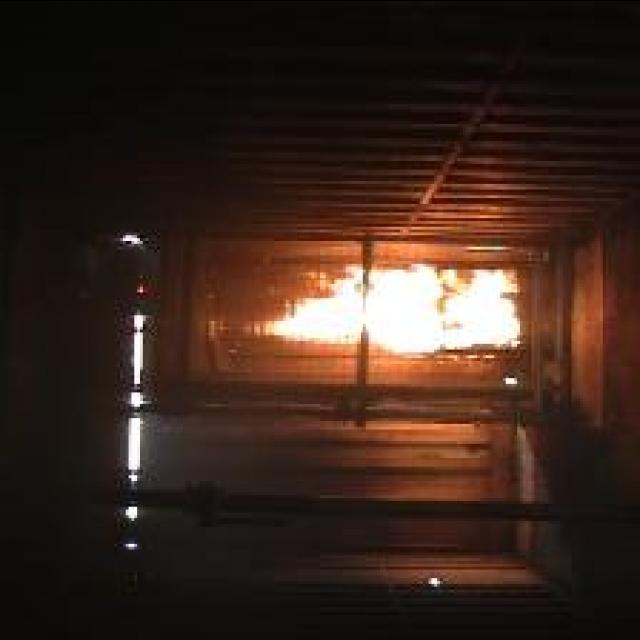Fire: (248, 263, 522, 351)
